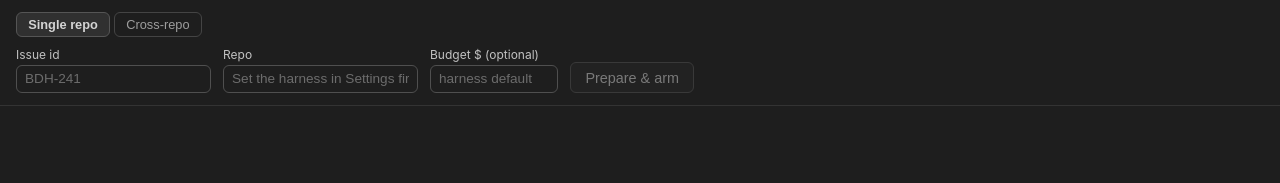
preparing and arming a run from the app › an arm refusal after a good prepare is shown, not swallowed
The width and height of the screenshot is (1280, 183).
Type "BDH-1" into the field with placeholder "BDH-241" at (114, 79), box x1=16 y1=65 x2=211 y2=93
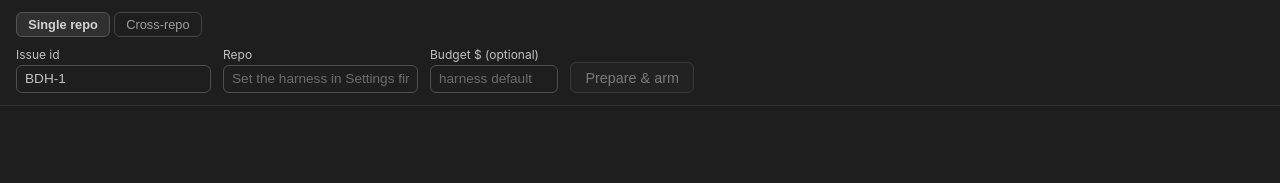
Type "Bodhilander" into the field with placeholder "Set the harness in Settings first" at (320, 79), box x1=223 y1=65 x2=418 y2=93
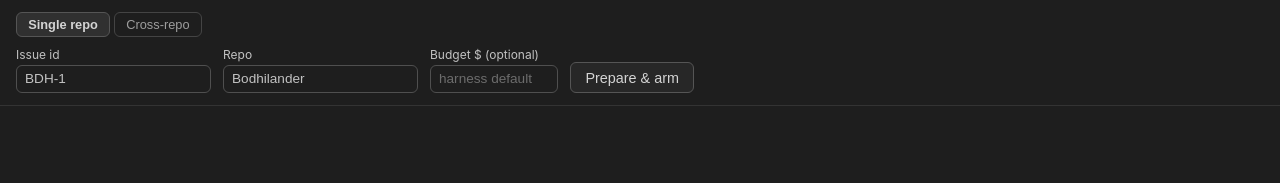
Click the button "Prepare & arm" at (632, 78), box x1=570 y1=62 x2=694 y2=93
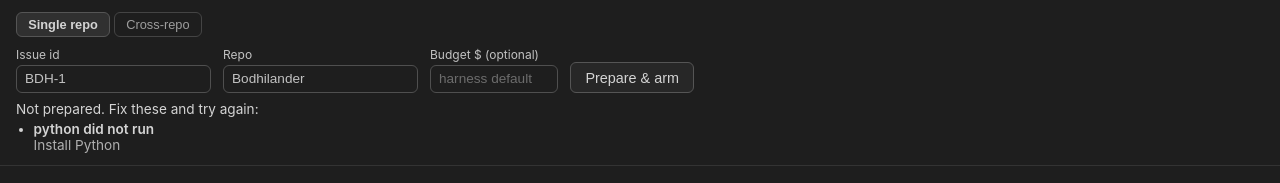
Check: the text "python did not run" is shown, box x1=34 y1=121 x2=154 y2=137
